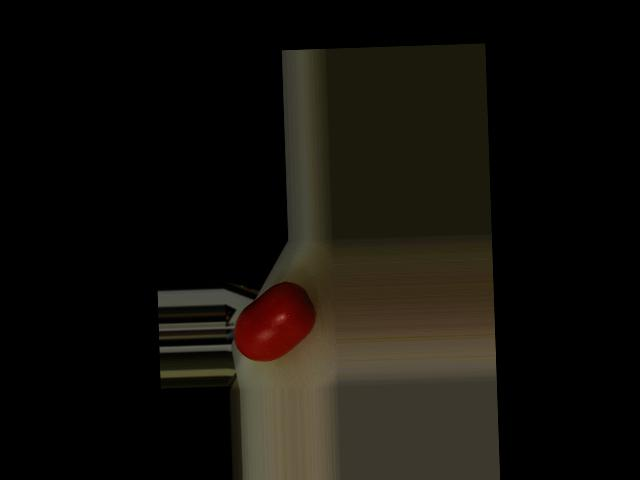tomato: (232, 281, 317, 362)
